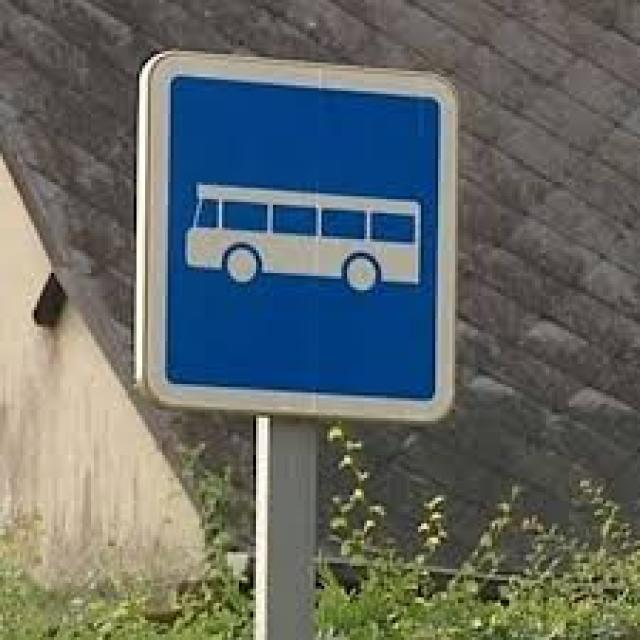ArretBus: (146, 54, 453, 422)
